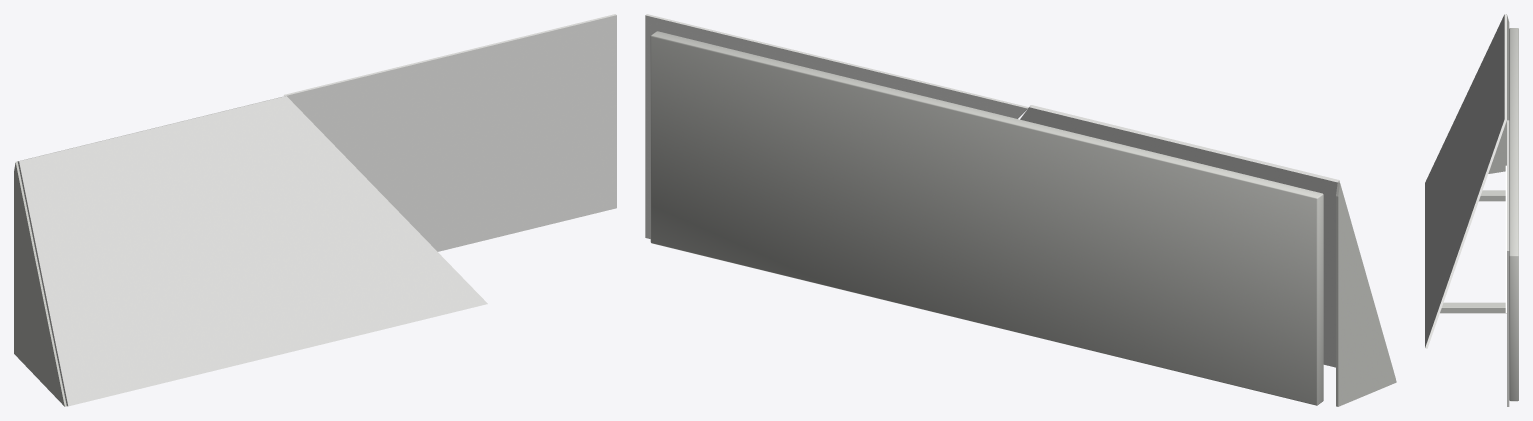
Rendered from nordic-minimalist-art-geometric-design-stepless-dimming-le.glb.
3 views of the same model, side by side, from view 1: azimuth 30°, elevation 25°; view 2: azimuth 150°, elevation 25°; view 3: azimuth 270°, elevation 25° (orthographic). The views are drawn at different scales.
Parts seen in each view (by area): view 1: FoldPart, FlatPart, FoldSide; view 2: BackPanel, FoldPart, FoldSide, FlatPart; view 3: FoldPart, BackPanel, FlatPart, FoldSide, FoldPost_1.6, FoldPost_-6.8, LedWash.
Part boxes in pixels (x1=…): FoldPart: x1=17, y1=96, x2=487, y2=406; FlatPart: x1=284, y1=14, x2=616, y2=251; FoldSide: x1=14, y1=161, x2=66, y2=406; BackPanel: x1=650, y1=31, x2=1323, y2=405; FoldPart: x1=1020, y1=105, x2=1395, y2=378; FoldSide: x1=1336, y1=182, x2=1396, y2=406; FlatPart: x1=645, y1=14, x2=1028, y2=238; FoldPart: x1=1425, y1=14, x2=1506, y2=348; BackPanel: x1=1509, y1=28, x2=1518, y2=401; FlatPart: x1=1507, y1=120, x2=1509, y2=406; FoldSide: x1=1488, y1=14, x2=1509, y2=173; FoldPost_1.6: x1=1440, y1=302, x2=1506, y2=313; FoldPost_-6.8: x1=1479, y1=190, x2=1505, y2=201; LedWash: x1=1505, y1=165, x2=1506, y2=312.
Bounding box in the file's own units: 0.4511 × 0.1507 × 0.0755.
3 materials, 2 textured.
